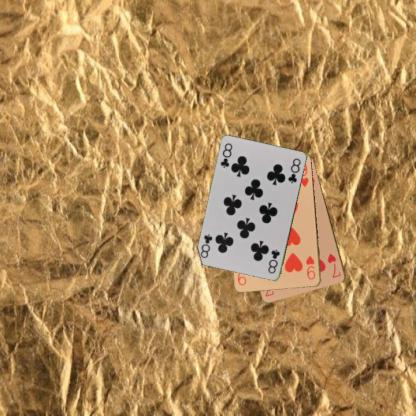7h: (325, 251, 342, 280)
8c: (266, 247, 282, 275), (218, 141, 234, 169)
9h: (303, 253, 317, 281)
